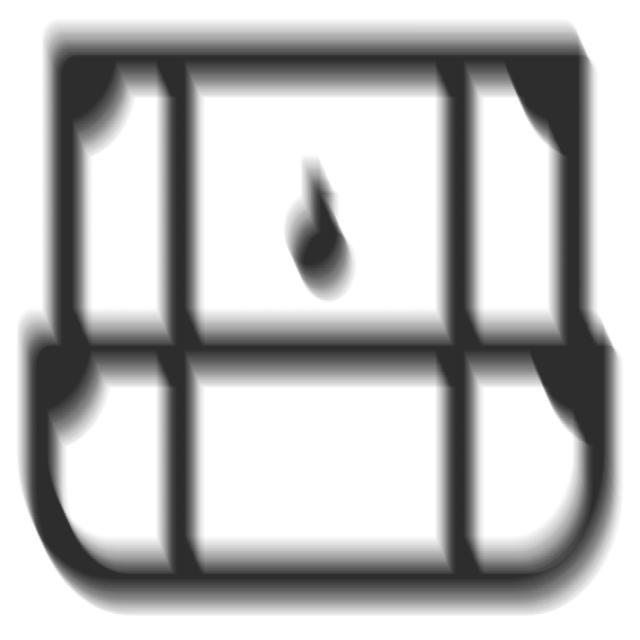treasure_box: (8, 18, 631, 628)
